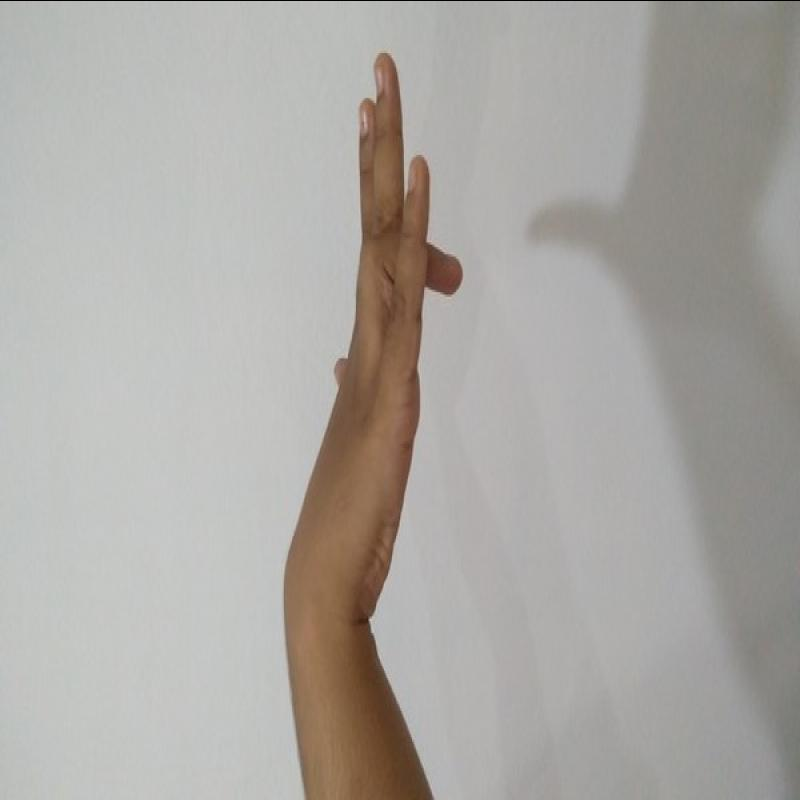Pathaaka: (263, 41, 496, 624)
